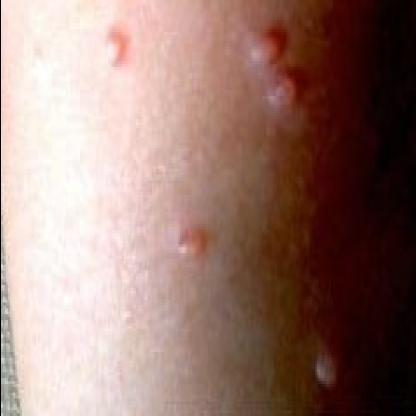Fire ant: (241, 17, 307, 127), (303, 332, 346, 395), (94, 23, 140, 79), (174, 209, 212, 270)
